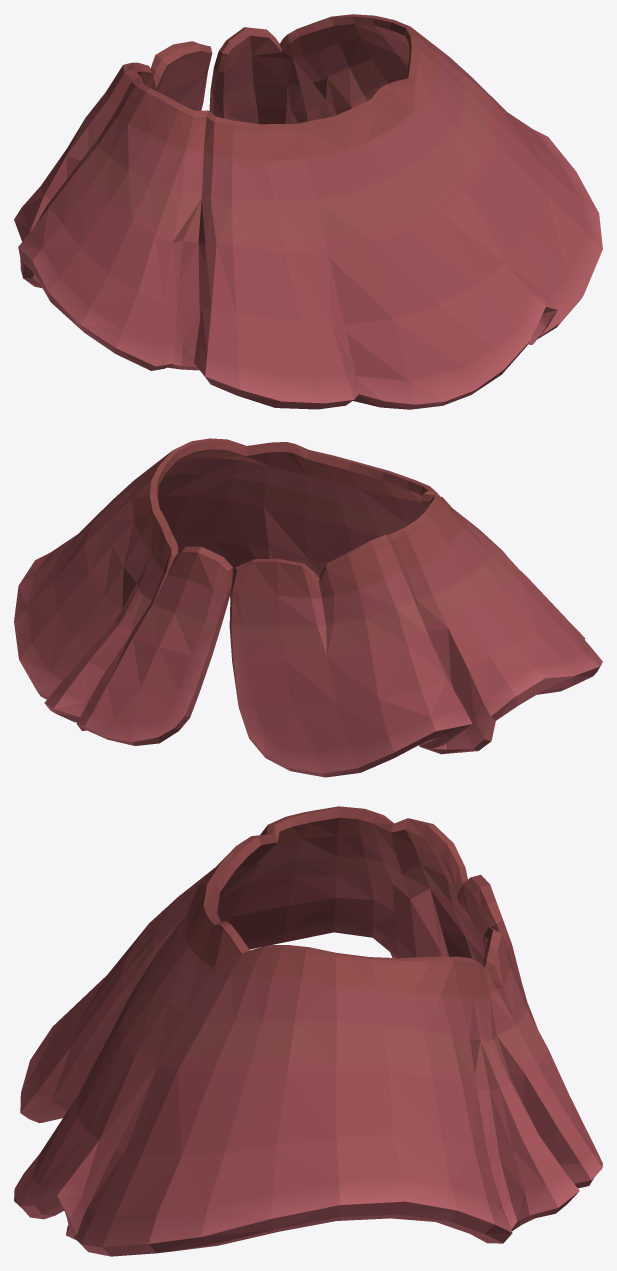
Rendered from CharSkyKid_Wing_RibbonDressCape.glb.
3 renders of one model, top to bottom at view 1: azimuth 30°, elevation 25°; view 2: azimuth 150°, elevation 25°; view 3: azimuth 270°, elevation 25°, orthographic. The views are drawn at different scales.
Visible parts, largest first — view 1: CharSkyKid_Wing_RibbonDressCape; view 2: CharSkyKid_Wing_RibbonDressCape; view 3: CharSkyKid_Wing_RibbonDressCape.
Part boxes in pixels (left/top/right/bottom): CharSkyKid_Wing_RibbonDressCape: left=14, top=14, right=602, bottom=409; CharSkyKid_Wing_RibbonDressCape: left=14, top=438, right=602, bottom=777; CharSkyKid_Wing_RibbonDressCape: left=14, top=806, right=602, bottom=1256.
Size of the model in its own units: 5.94 by 2.81 by 4.91.
Materials: 1 (1 with a texture image).
